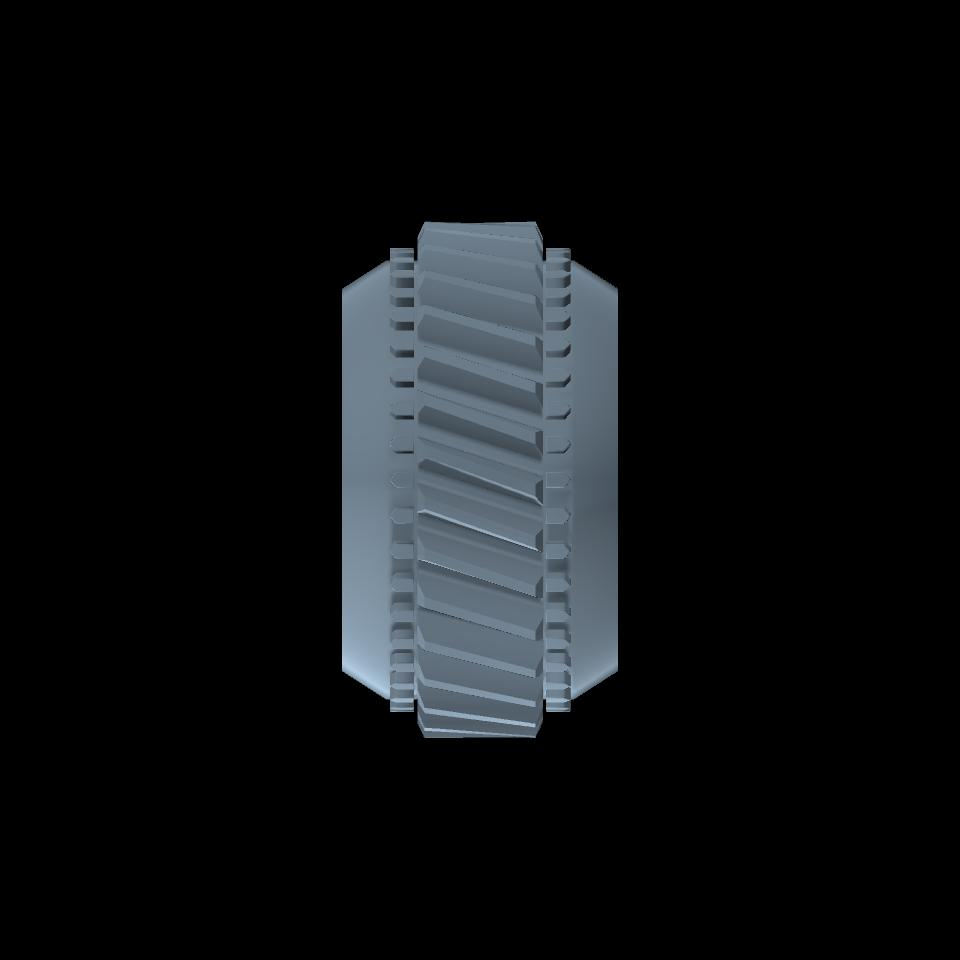Helical: (427, 221, 534, 737)
Straight: (547, 246, 562, 711), (399, 247, 413, 711)
